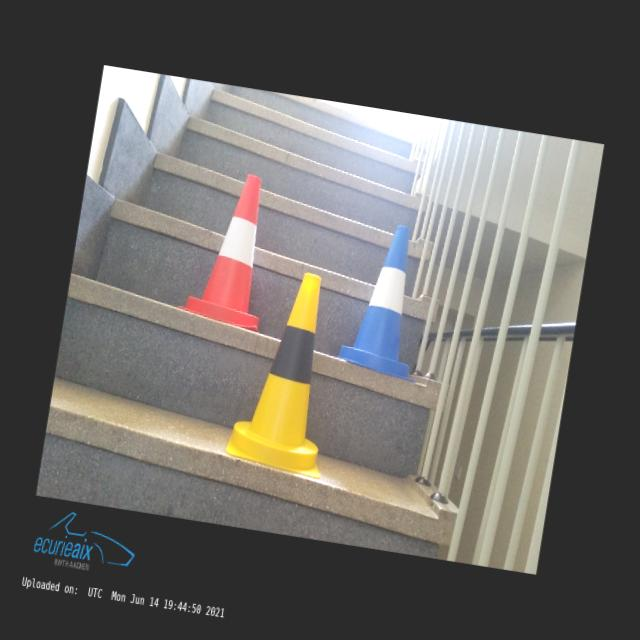blue_cone: (332, 218, 440, 384)
orange_cone: (175, 166, 282, 334)
yellow_cone: (224, 264, 352, 479)
